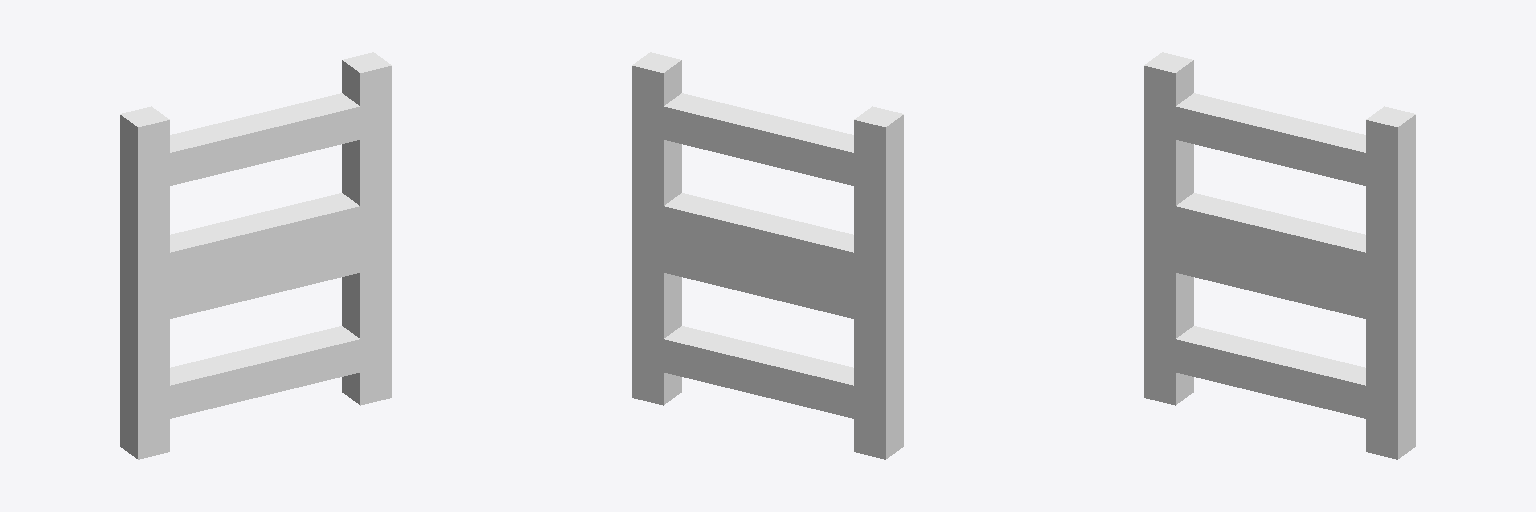
The model's file is ladder.obj.
3 renders of one model, left to right at view 1: azimuth 30°, elevation 25°; view 2: azimuth 150°, elevation 25°; view 3: azimuth 330°, elevation 25°, orthographic.
Size of the model in its own units: 8 by 10 by 1.